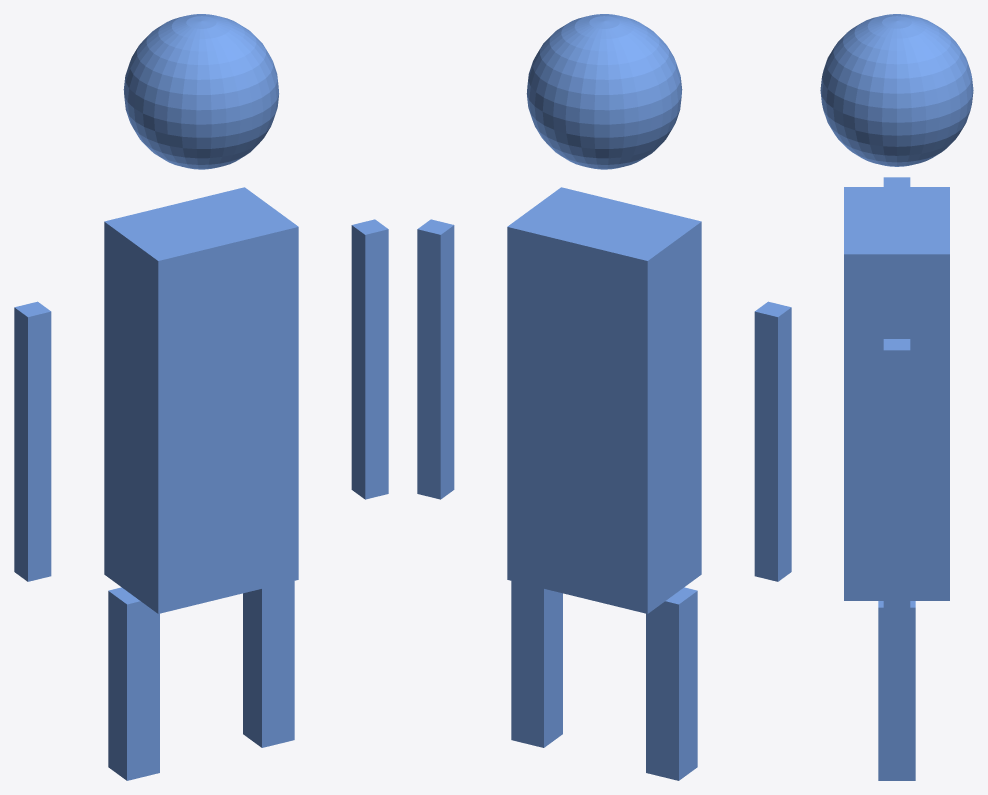
The model's file is char_kite.glb.
The picture shows the model from 3 angles, left to right: view 1: azimuth 30°, elevation 25°; view 2: azimuth 150°, elevation 25°; view 3: azimuth 270°, elevation 25°; orthographic projection.
Parts seen in each view (by area): view 1: char_kite; view 2: char_kite; view 3: char_kite.
Boxes of the visible parts, <box> form: char_kite: <box>14,14,388,780</box>; char_kite: <box>417,14,791,780</box>; char_kite: <box>820,14,973,780</box>.
Size of the model in its own units: 0.77 by 1.49 by 0.288.
